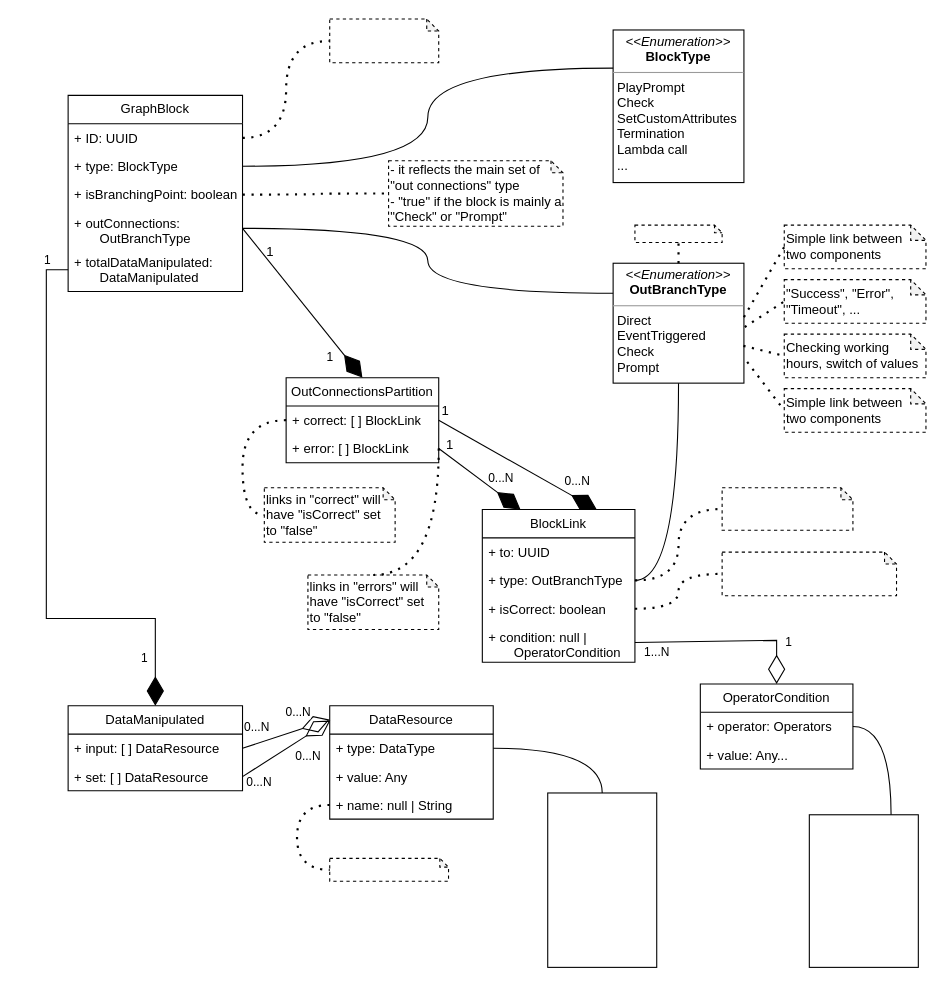
Image size: 945x986. Some labels were removed from this diagram. Here are the shapes that lost their labels. From the top down, the centre of each, then its label:
point 384,40: copied from the original block
point 678,233: a.k.a. "OBT"
point 787,508: "type" is kept for debug and clarity only
point 809,573: collapses the OBT variable based on the execution "correctness"
point 389,869: es: "QueueName"
point 602,879: <<Enumeration>> DataType int float (?) String ARN Audio File Phone number ...
point 863,890: <<Enumeration>> Operators == != < > >= ...
